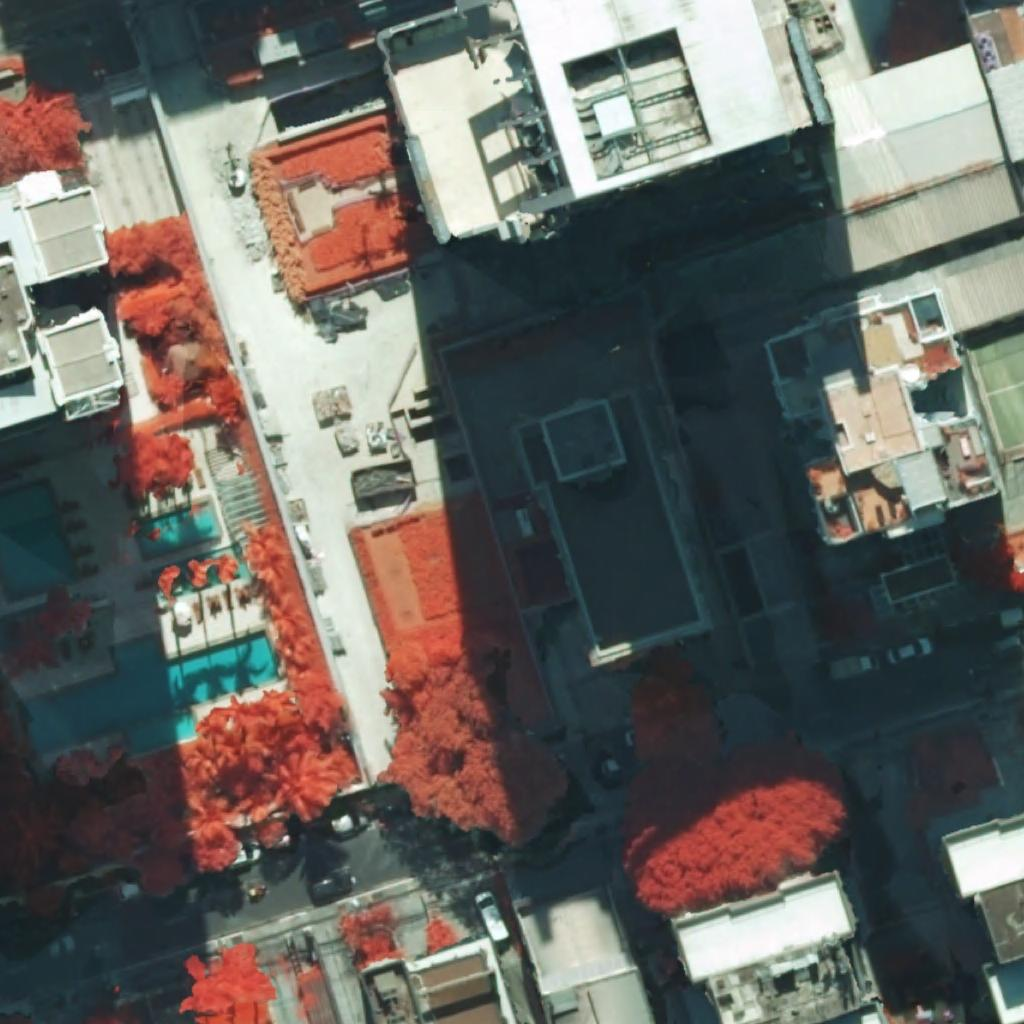pool: (18, 629, 281, 755), (0, 479, 79, 603), (136, 501, 218, 559)
